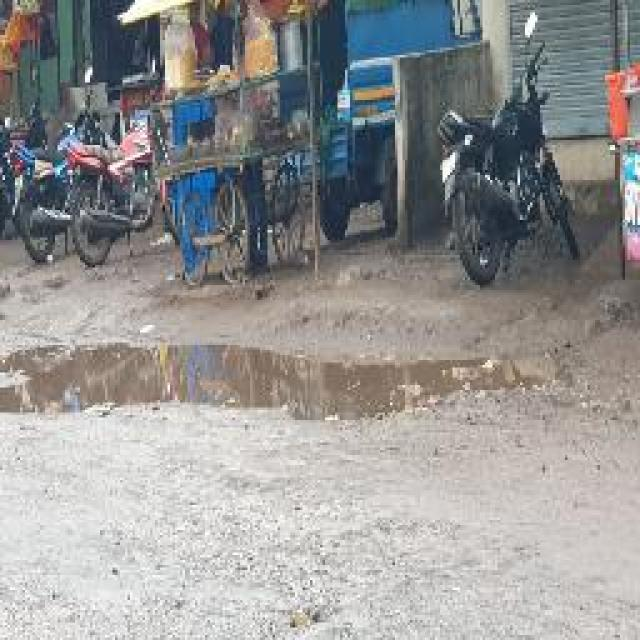stagnation: (0, 345, 554, 428)
